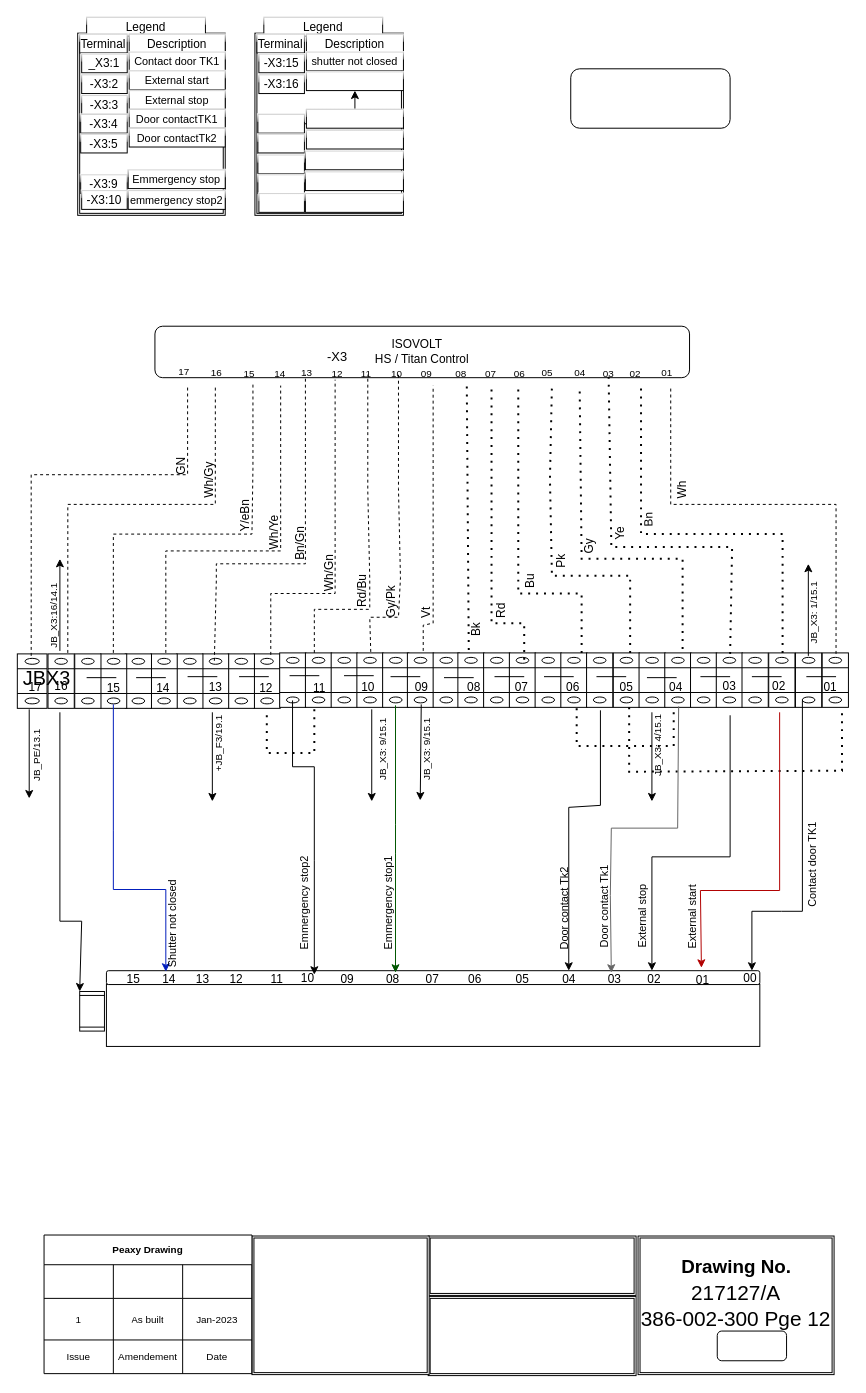
This 866x1393 diagram has some shape labels left out. Here are the shapes that lost their labels. From the top down, the centre of each, then its label:
the point at 354,81: Ground
the point at 650,98: X-Ray
the point at 91,1010: com
the point at 432,1014: Direct Logic DL205 I/O D2-16-ND3-2 PLC slot 2
the point at 531,1265: TITLE
the point at 340,1305: PEAXY Inc Automation Specialist 2390 Bering Drive San Jose California 95131
the point at 531,1335: PH1 PLC control X-ray
the point at 751,1345: Page 2
